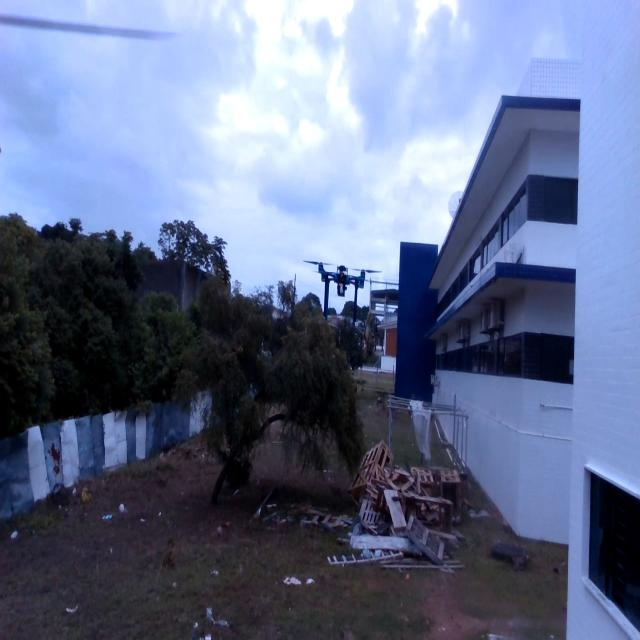-uav-: (297, 241, 388, 332)
